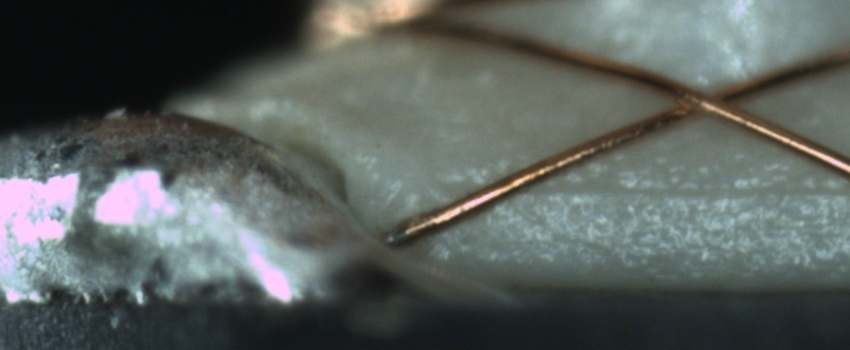CL: (646, 72, 768, 127)
DL: (443, 159, 850, 223)
